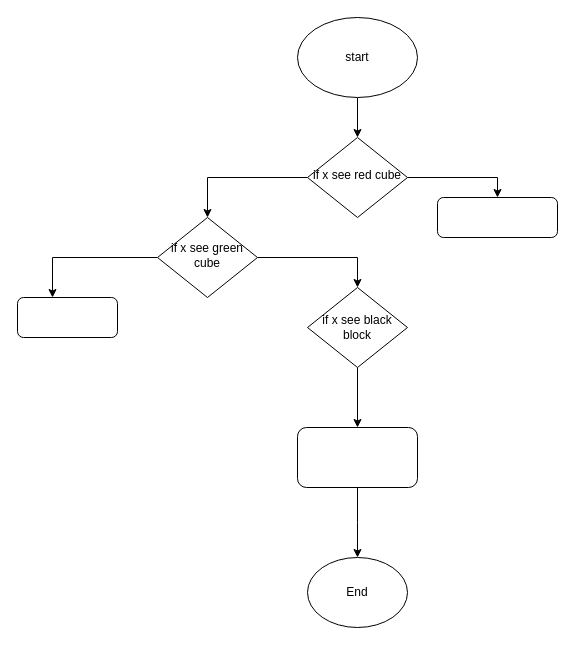
The diagram is 575 pixels wide and 645 high, and some of its shapes have lost their labels. Here are the shapes that lost their labels. From the top down, the centre of each, then its label:
At (497,217): "turn right".
At (67,317): "turn left".
At (357,457): "move backward".
